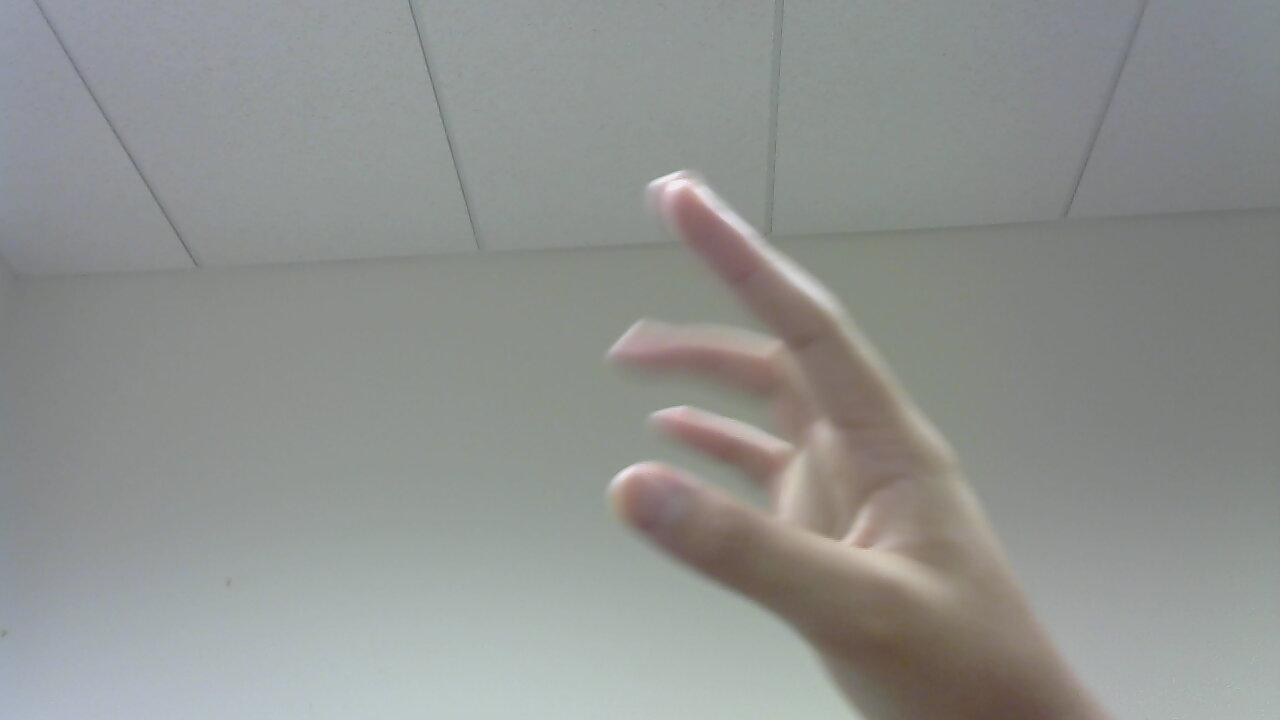hands: (611, 162, 1090, 720)
